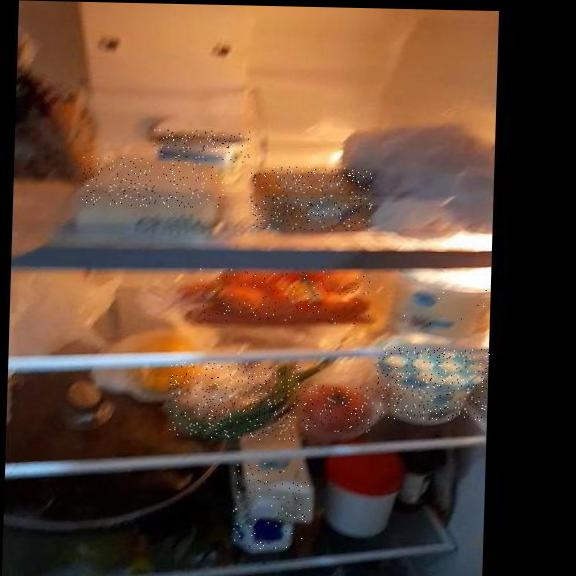butter: (250, 166, 374, 232)
carrot: (193, 268, 370, 324)
cheese: (82, 156, 224, 208)
green chilies: (169, 362, 301, 441)
milk: (232, 462, 311, 550)
tomato: (302, 385, 374, 433)
yoghurt: (376, 347, 490, 421), (404, 270, 491, 339), (153, 130, 252, 163)
